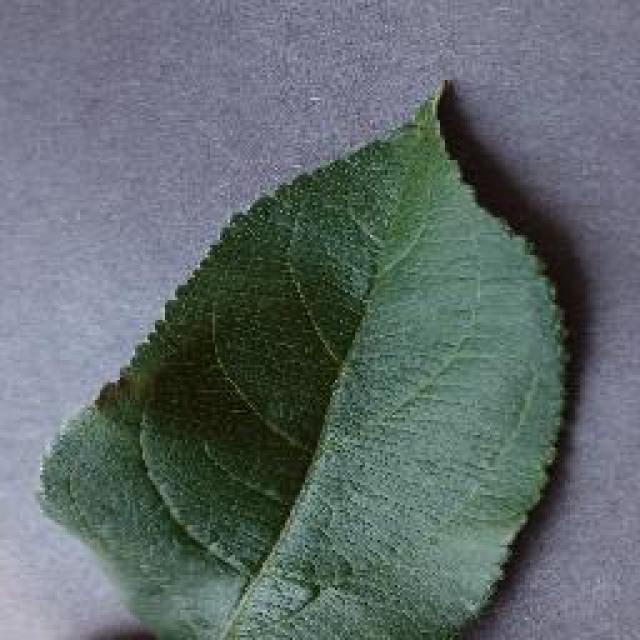apple healthy: (35, 75, 575, 637)
